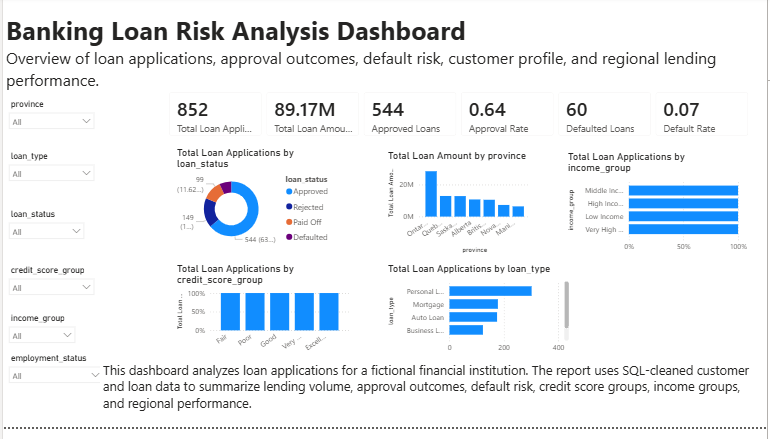

This screenshot's page, from the dashboard's own definition file:
{"tool":"powerbi","page":{"name":"Executive Summary","canvas":[1280,720],"ordinal":0},"visuals":[{"type":"textbox","box":[0,21.8,1280,144.1],"z":0},{"type":"cardVisual","fields":{"Data":["Measures (2).Total Loan Applications","Measures (2).Total Loan Amount","Measures (2).Approved Loans","Measures (2).Approval Rate","Measures (2).Defaulted Loans","Measures (2).Default Rate"]},"box":[261.4,142.4,1006.9,107.2],"z":1000},{"type":"donutChart","fields":{"Y":["Measures (2).Total Loan Applications"],"Category":["loan_analysis_view.loan_status"]},"box":[286.5,249.6,279.8,172.6],"z":2000},{"type":"clusteredBarChart","fields":{"Y":["Measures (2).Total Loan Applications"],"Category":["loan_analysis_view.loan_type"]},"box":[640,444,313.3,160.8],"z":3000},{"type":"clusteredColumnChart","fields":{"Category":["loan_analysis_view.province"],"Y":["Measures (2).Total Loan Amount"]},"box":[640,254.7,248,179.3],"z":4000},{"type":"hundredPercentStackedColumnChart","fields":{"Y":["Measures (2).Total Loan Applications"],"Category":["loan_analysis_view.credit_score_group"]},"box":[286.5,444,298.2,162.5],"z":5000},{"type":"hundredPercentStackedBarChart","fields":{"Category":["loan_analysis_view.income_group"],"Y":["Measures (2).Total Loan Applications"]},"box":[941.6,256.3,309.9,179.3],"z":6000},{"type":"slicer","fields":{"Values":["loan_analysis_view.province"]},"box":[0,165.9,162.5,67],"z":7000},{"type":"slicer","fields":{"Values":["loan_analysis_view.loan_type"]},"box":[0,253,162.5,57],"z":8000},{"type":"slicer","fields":{"Values":["loan_analysis_view.loan_status"]},"box":[0,350.2,145.8,58.6],"z":9000},{"type":"slicer","fields":{"Values":["loan_analysis_view.credit_score_group"]},"box":[0,444,162.5,60.3],"z":10000},{"type":"slicer","fields":{"Values":["loan_analysis_view.income_group"]},"box":[0,524.4,130.7,95.5],"z":11000},{"type":"slicer","fields":{"Values":["loan_analysis_view.employment_status"]},"box":[0,591.4,177.6,68.7],"z":12000},{"type":"textbox","box":[162.5,604.8,1117.5,95.5],"z":13000}]}

Visuals, with their boxes in screenshot pixels (x1, y1, x2, y2), scaled from the page's 1280x720 canvas onto the 770x439 screenshot:
textbox: 0,13,769,101
cardVisual - Measures (2).Total Loan Applications x Measures (2).Total Loan Amount: 157,87,763,152
donutChart - Measures (2).Total Loan Applications x loan_analysis_view.loan_status: 172,152,341,257
clusteredBarChart - Measures (2).Total Loan Applications x loan_analysis_view.loan_type: 385,271,573,369
clusteredColumnChart - loan_analysis_view.province x Measures (2).Total Loan Amount: 385,155,534,265
hundredPercentStackedColumnChart - Measures (2).Total Loan Applications x loan_analysis_view.credit_score_group: 172,271,352,370
hundredPercentStackedBarChart - loan_analysis_view.income_group x Measures (2).Total Loan Applications: 566,156,753,266
slicer - loan_analysis_view.province: 0,101,98,142
slicer - loan_analysis_view.loan_type: 0,154,98,189
slicer - loan_analysis_view.loan_status: 0,214,88,249
slicer - loan_analysis_view.credit_score_group: 0,271,98,307
slicer - loan_analysis_view.income_group: 0,320,79,378
slicer - loan_analysis_view.employment_status: 0,361,107,402
textbox: 98,369,769,427
